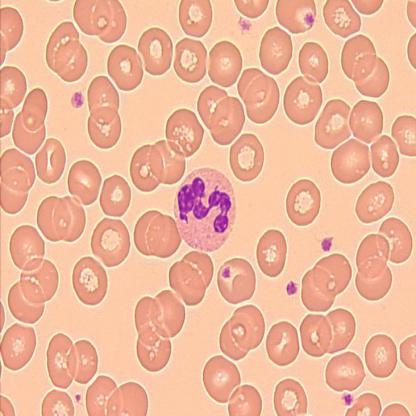Segmented neutrophil: (171, 166, 238, 254)
